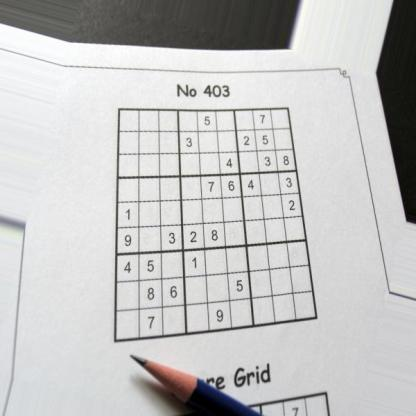sudoku: (111, 105, 321, 344)
